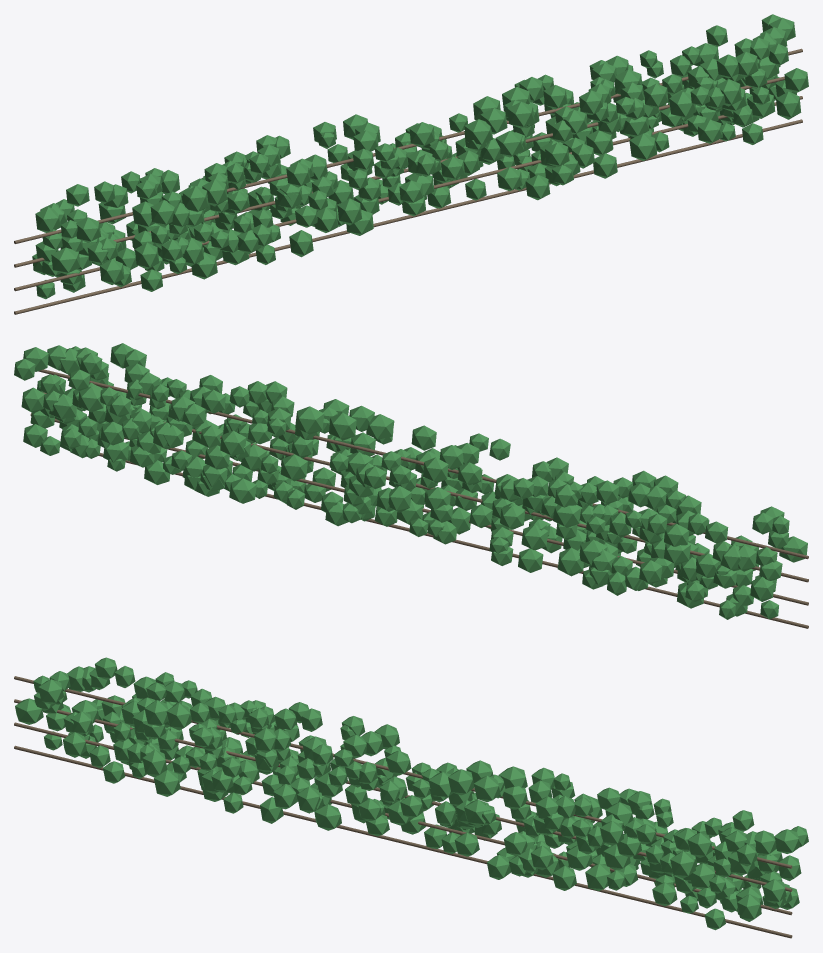
The picture shows the model from 3 angles, top to bottom: view 1: azimuth 30°, elevation 25°; view 2: azimuth 150°, elevation 25°; view 3: azimuth 330°, elevation 25°; orthographic projection.
Visible parts, largest first — view 1: Icosphere.206, Icosphere.231, Icosphere.294, Icosphere.031, Icosphere.250, Icosphere.155, Icosphere.265; view 2: Icosphere.315, Icosphere.090, Icosphere.035, Icosphere.335, Icosphere.159, Icosphere.031, Icosphere.340, Icosphere.029, Icosphere.209, Icosphere.033; view 3: Icosphere.284, Icosphere.206, Icosphere.366, Icosphere.294, Icosphere, Icosphere.014, Icosphere.231, Icosphere.250, Icosphere.281, Icosphere.013.
Part boxes in pixels (x1,y1,x2,y2): Icosphere.206: (51, 247, 80, 274); Icosphere.231: (629, 133, 656, 160); Icosphere.294: (507, 101, 534, 128); Icosphere.031: (464, 119, 492, 144); Icosphere.250: (776, 91, 801, 119); Icosphere.155: (495, 131, 523, 157); Icosphere.265: (669, 91, 696, 118); Icosphere.315: (295, 406, 324, 434); Icosphere.090: (329, 412, 356, 440); Icosphere.035: (280, 454, 307, 481); Icosphere.335: (557, 547, 583, 576); Icosphere.159: (229, 478, 256, 503); Icosphere.031: (366, 414, 394, 439); Icosphere.340: (521, 524, 548, 550); Icosphere.029: (220, 430, 246, 456); Icosphere.209: (553, 504, 580, 527); Icosphere.033: (423, 457, 448, 483); Icosphere.284: (314, 804, 341, 830); Icosphere.206: (15, 698, 43, 724); Icosphere.366: (154, 770, 180, 796); Icosphere.294: (473, 776, 500, 802); Icosphere: (448, 769, 474, 795); Icosphere.014: (670, 851, 695, 878); Icosphere.231: (585, 864, 610, 890); Icosphere.250: (737, 894, 761, 921); Icosphere.281: (142, 749, 167, 777); Icosphere.013: (166, 703, 191, 730).
Size of the model in its own units: 10.5 by 1.32 by 1.16.
